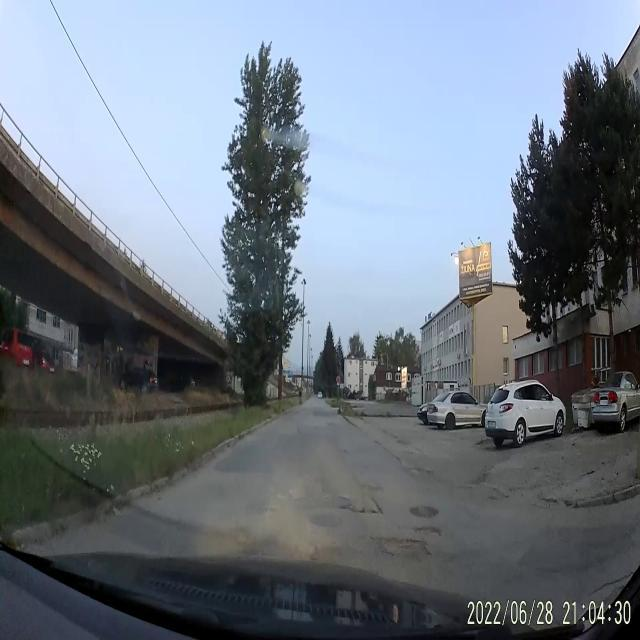Manhole: (308, 512, 344, 528), (409, 502, 439, 520)
Pothole: (370, 538, 432, 558), (338, 494, 385, 515), (412, 524, 443, 536)
